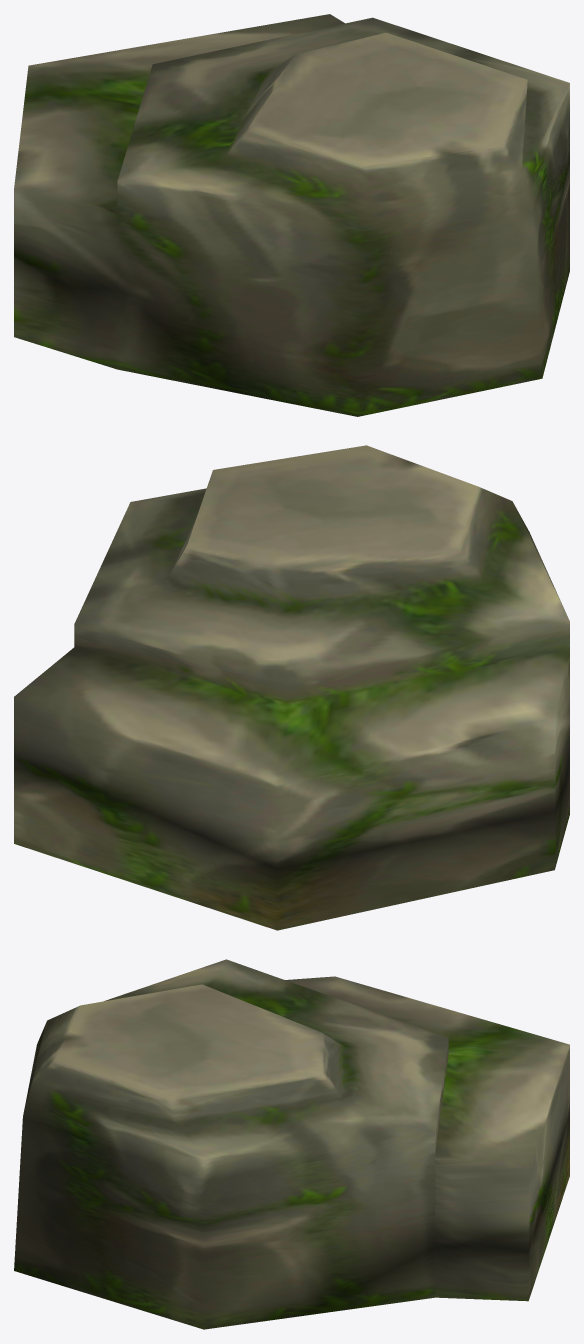
File: RockFormation_4_5 (11).fbx
3 renders of one model, top to bottom at view 1: azimuth 30°, elevation 25°; view 2: azimuth 150°, elevation 25°; view 3: azimuth 270°, elevation 25°, orthographic. The views are drawn at different scales.
Parts seen in each view (by area): view 1: RockFormation_4_5 (11); view 2: RockFormation_4_5 (11); view 3: RockFormation_4_5 (11).
Boxes of the visible parts, x1,y1,x2,y2 form: RockFormation_4_5 (11): (14,14,569,416); RockFormation_4_5 (11): (14,445,569,930); RockFormation_4_5 (11): (14,959,569,1329).
Bounding box in the file's own units: 214 × 92.81 × 231.
Materials: 1 (1 with a texture image).
